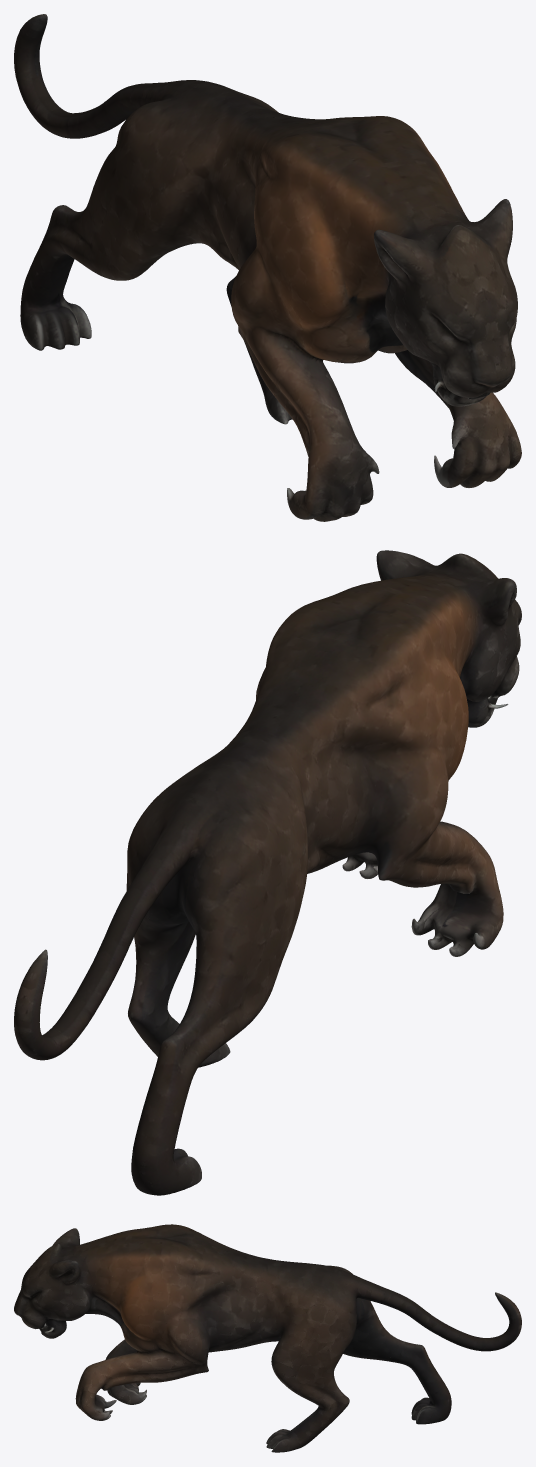
File: player_game.glb
The picture shows the model from 3 angles, top to bottom: view 1: azimuth 30°, elevation 25°; view 2: azimuth 150°, elevation 25°; view 3: azimuth 270°, elevation 25°; orthographic projection. The views are drawn at different scales.
Size of the model in its own units: 0.455 by 0.8088 by 1.9.
1 material, 1 textured.
